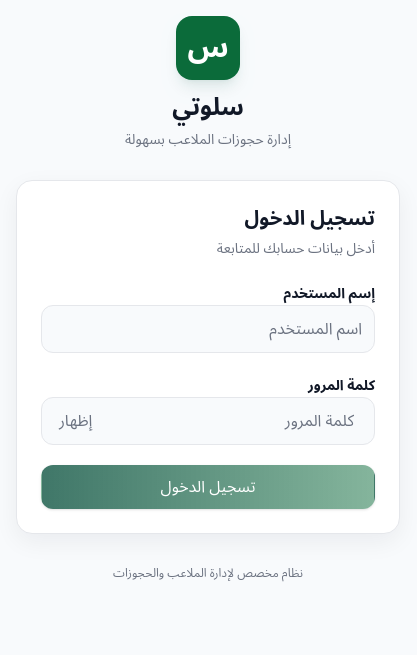
Test: LoginPage › shows an Arabic error when the auth API rejects login
This screenshot has width=417, height=655.
Type "wrong-user" into the field labelled "إسم المستخدم" at (208, 329), box [41,305,375,353]
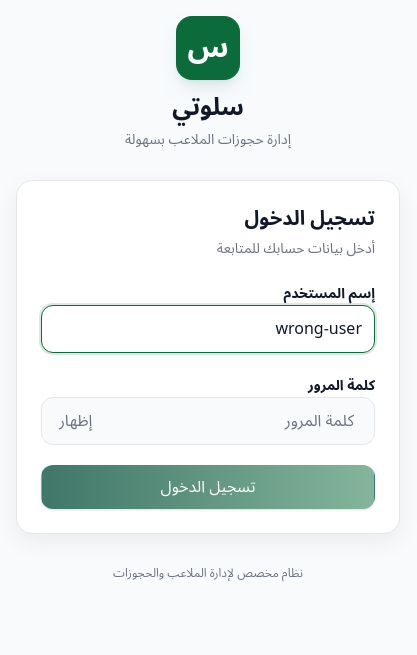
Type "bad-pass" into the password field labelled "كلمة المرور" at (208, 421), box [41,397,375,445]
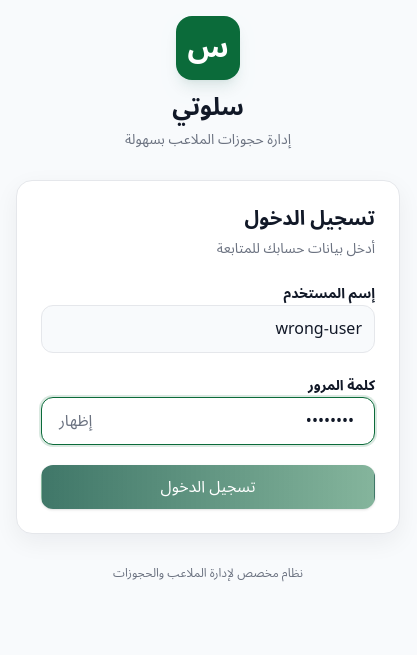
Click the button "تسجيل الدخول" at (208, 487), box [41,465,375,509]
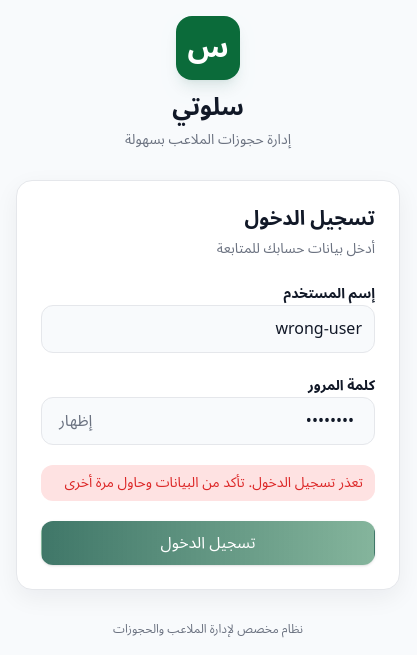
Now the text "تعذر تسجيل الدخول. تأكد من البيانات وحاول مرة أخرى" is shown, box [41,465,375,501]
